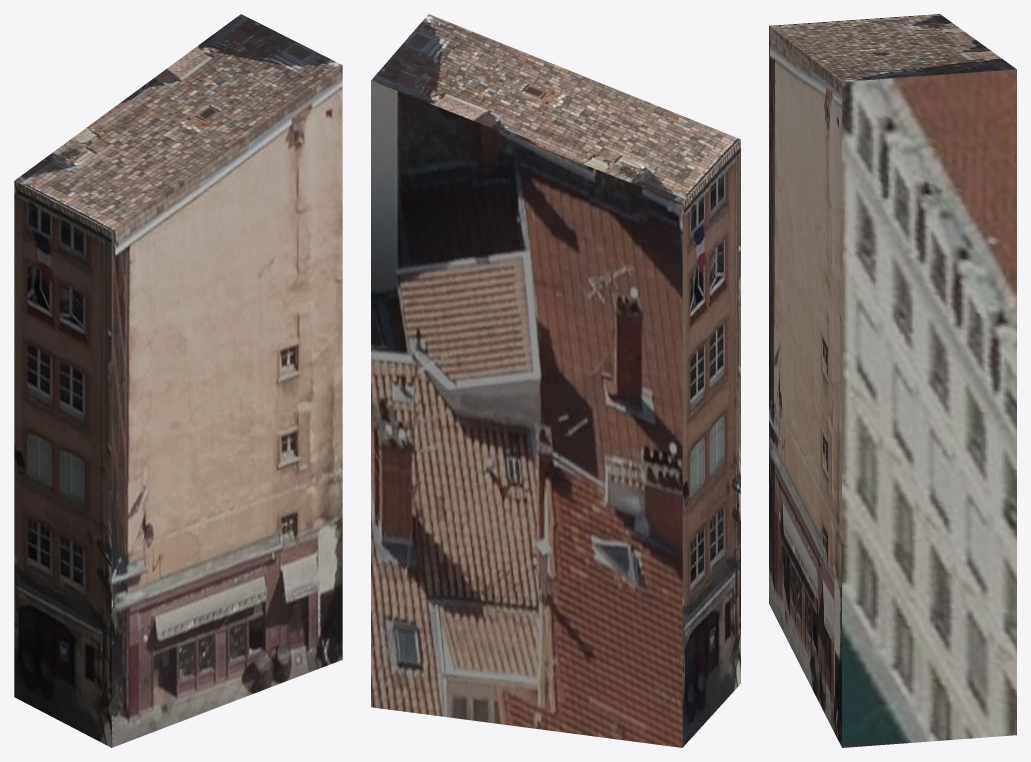
The picture shows the model from 3 angles, left to right: view 1: azimuth 30°, elevation 25°; view 2: azimuth 150°, elevation 25°; view 3: azimuth 270°, elevation 25°; orthographic projection. The views are drawn at different scales.
Visible parts, largest first — view 1: Z_UP; view 2: Z_UP; view 3: Z_UP.
Boxes of the visible parts, <box> form: Z_UP: <box>14,14,342,747</box>; Z_UP: <box>371,14,740,747</box>; Z_UP: <box>769,14,1016,747</box>.
Bounding box in the file's own units: 10.94 × 21.86 × 7.37.
Materials: 2 (1 with a texture image).
